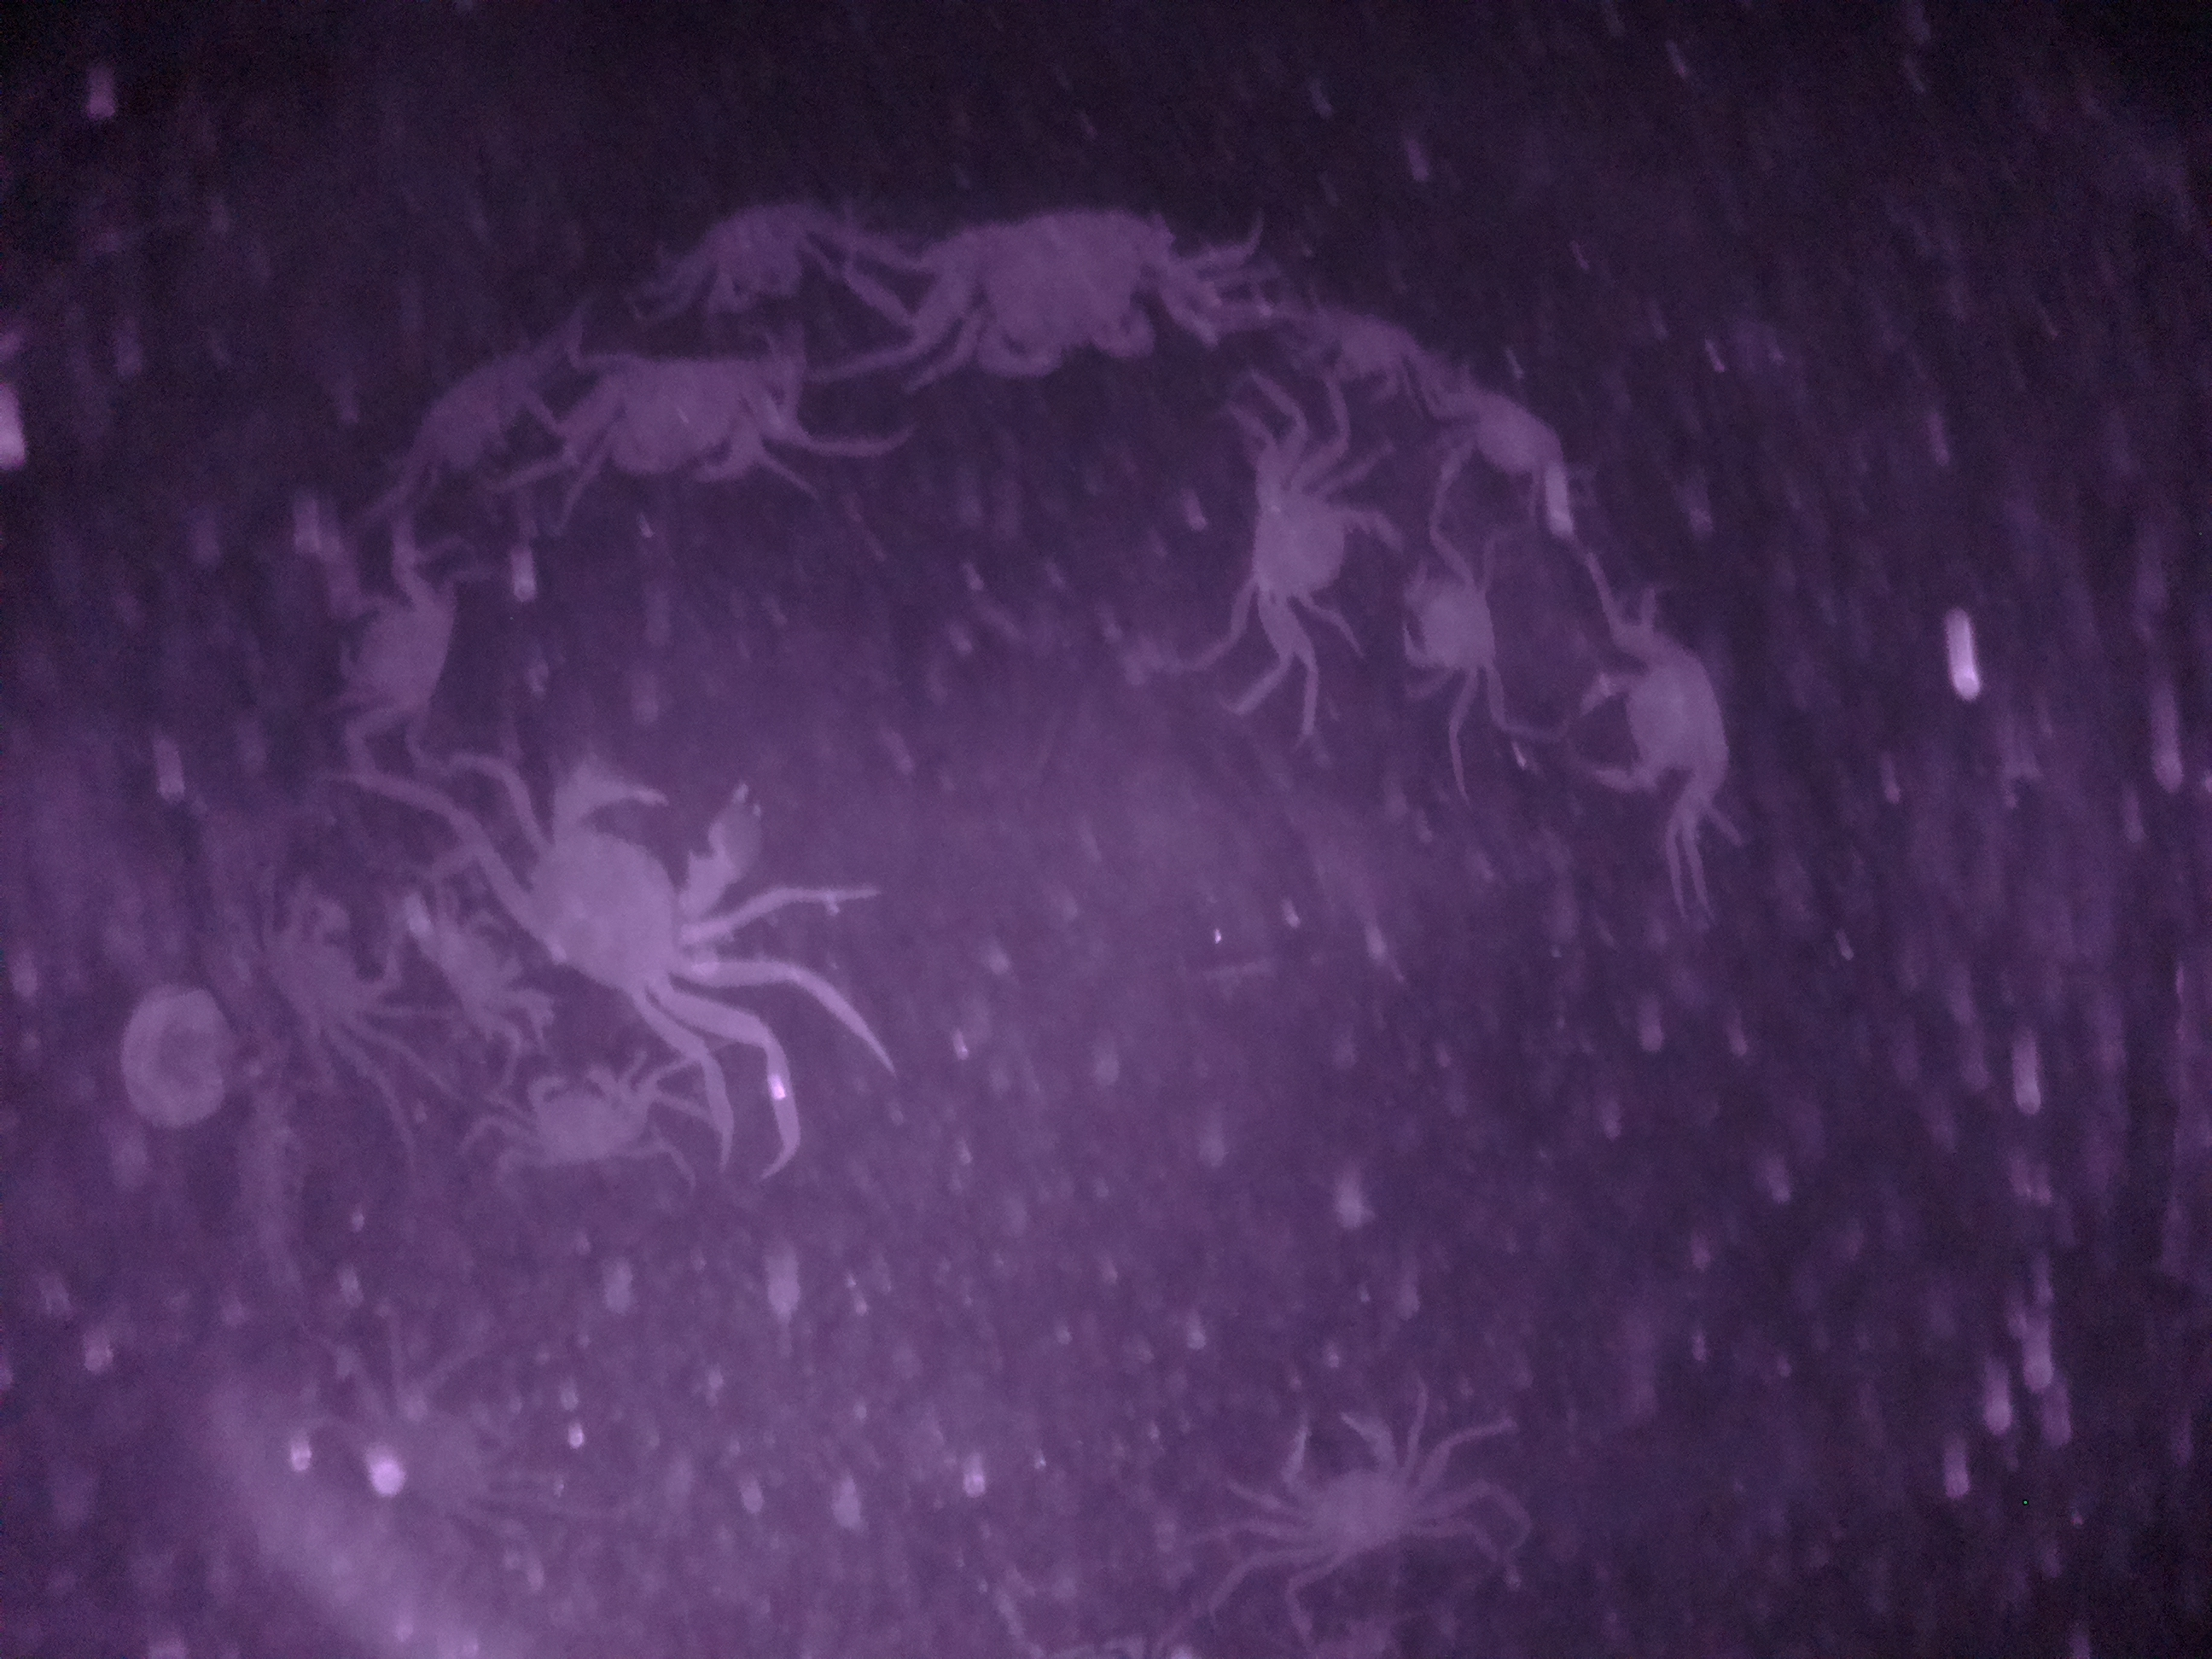Crab: (930, 195, 1221, 399), (1238, 1392, 1482, 1579), (1555, 620, 1747, 833), (1228, 436, 1397, 659), (564, 331, 794, 484), (1388, 537, 1514, 701), (503, 1051, 639, 1182)
